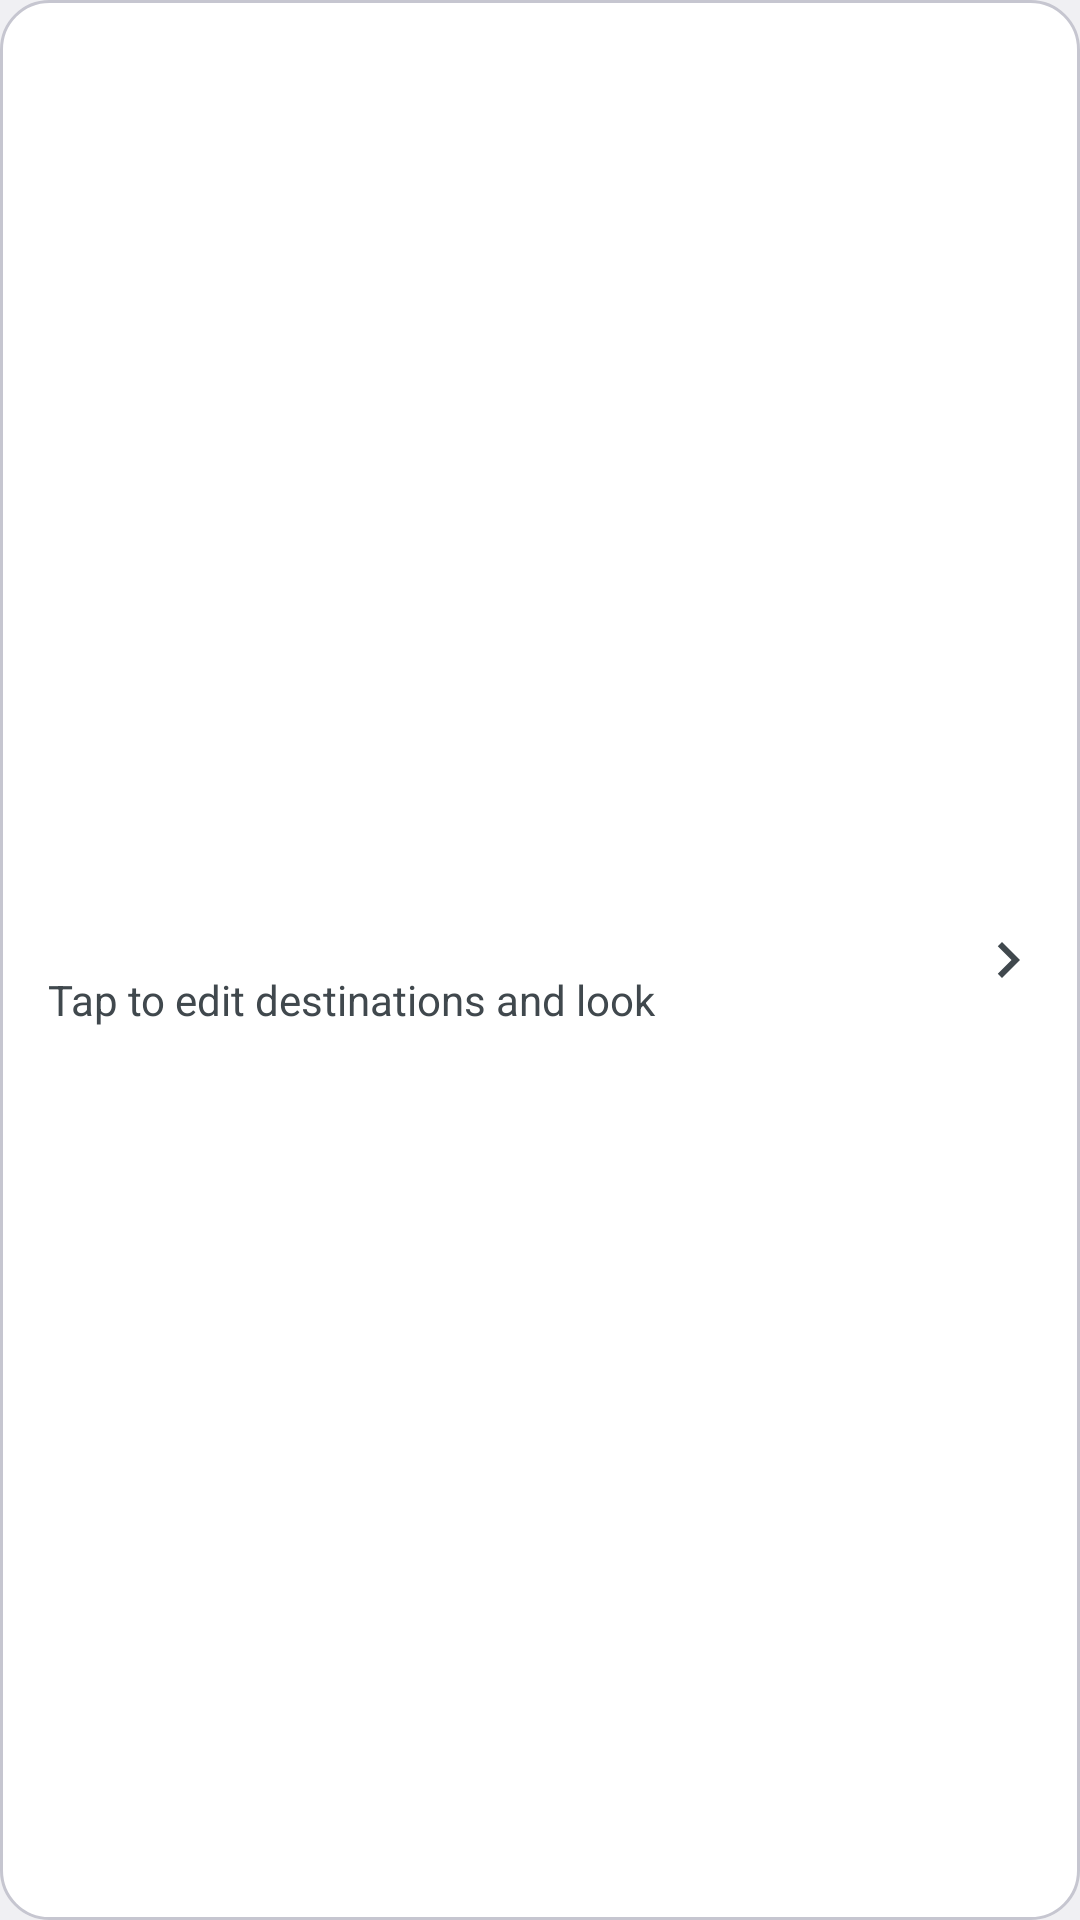

Point at icon controls on the screen. Image size 1080 x 1920, points as (x=x, y=y).
chevron right: (x=1009, y=960)
